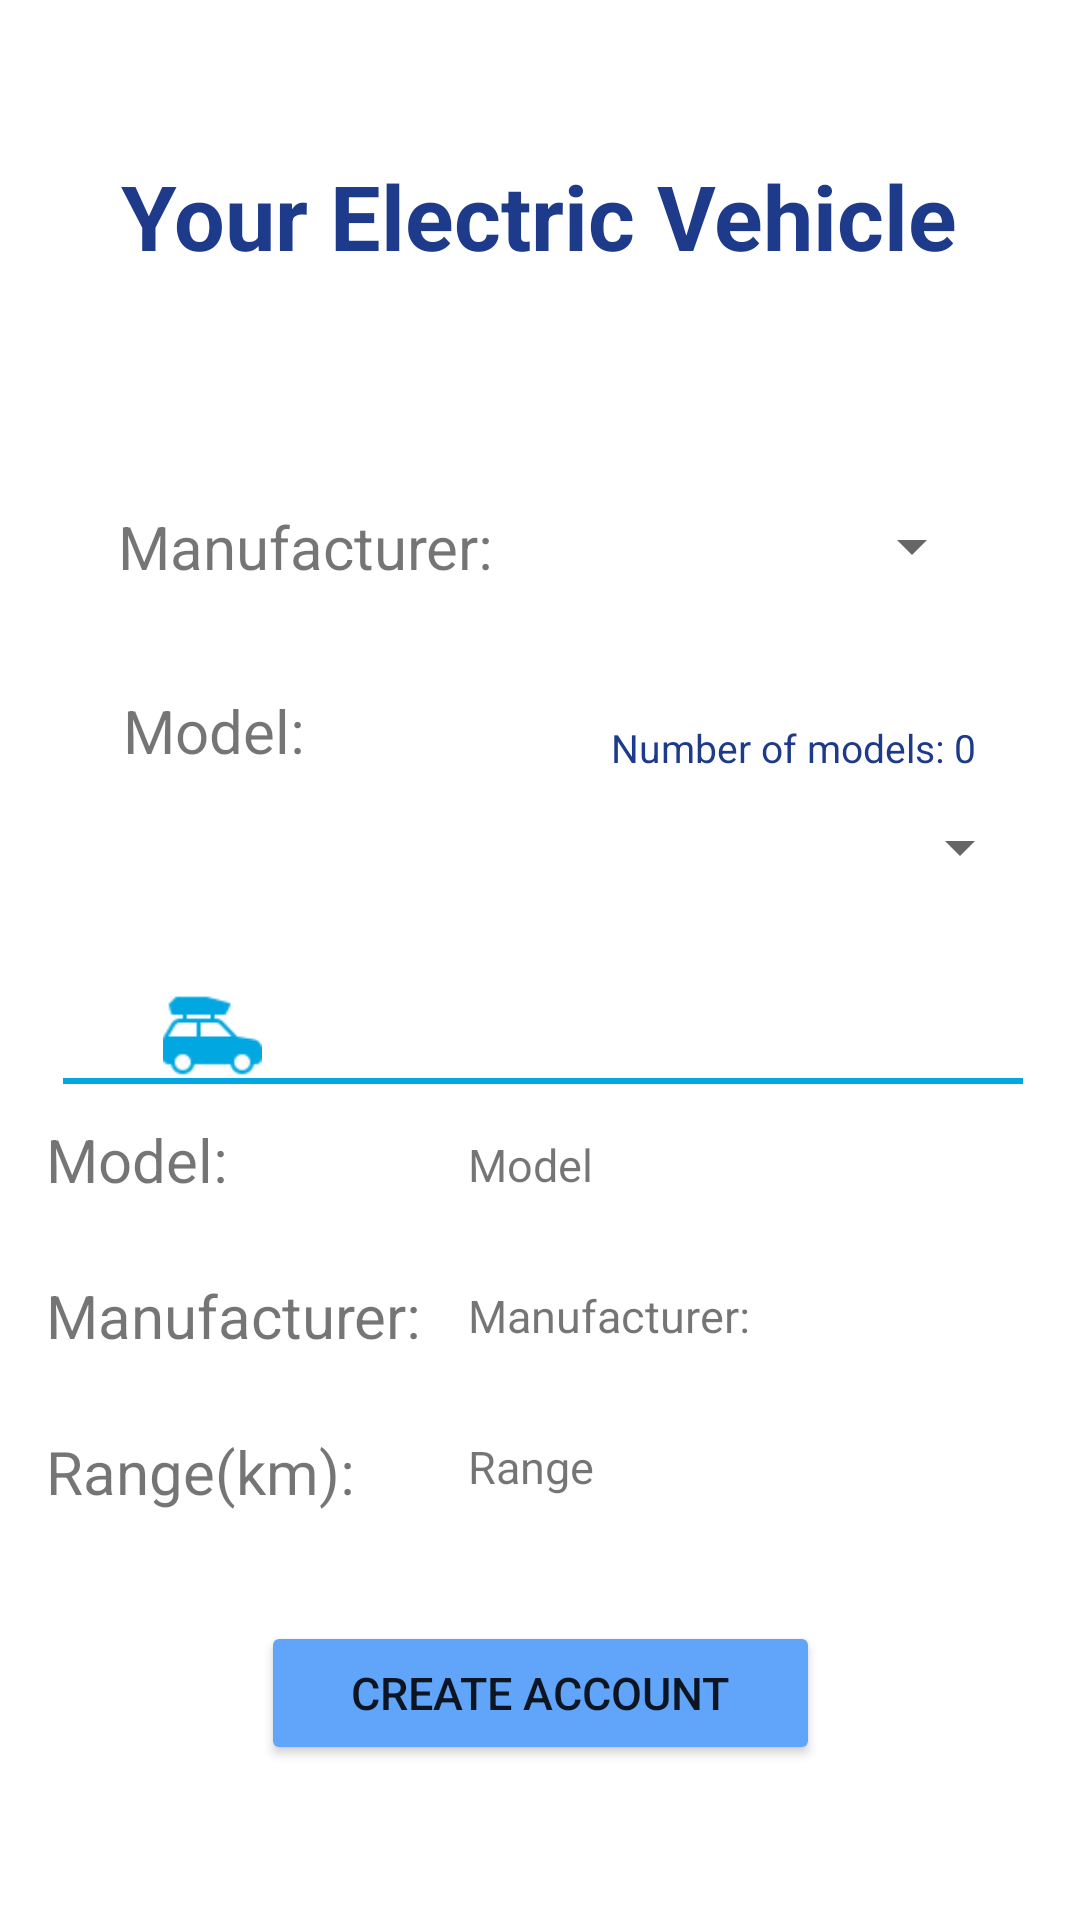

Icons on this 1080x1920 Android screen, each with the point to tap as (x=x, y=y):
car roof: (x=212, y=1035)
